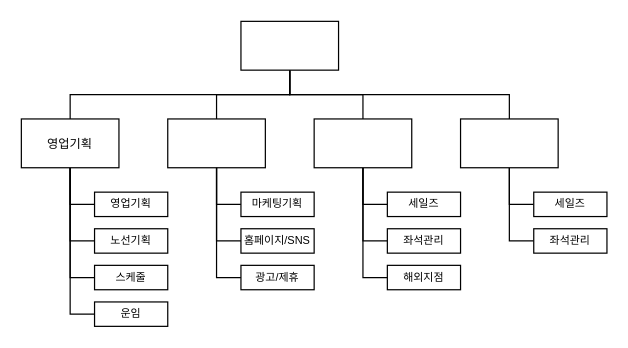
Image size: 628x348. Some labels were removed from this diagram. Each missing label, with the box of its shape:
국내영업: (459, 118, 558, 168)
국제영업: (313, 118, 412, 168)
영업마케팅: (167, 118, 265, 168)
영업본부: (240, 20, 339, 70)
